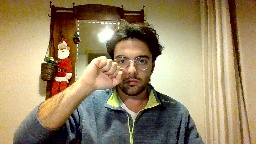Pugno: (81, 53, 124, 92)
